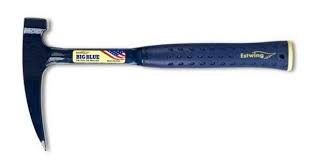hammer: (21, 15, 293, 151)
